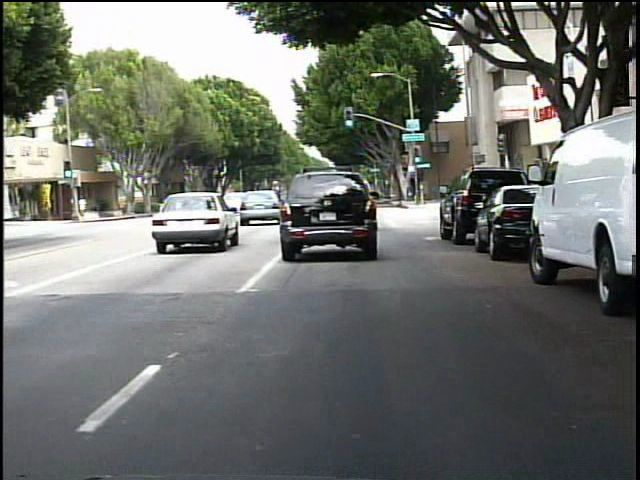person: (79, 193, 90, 221)
